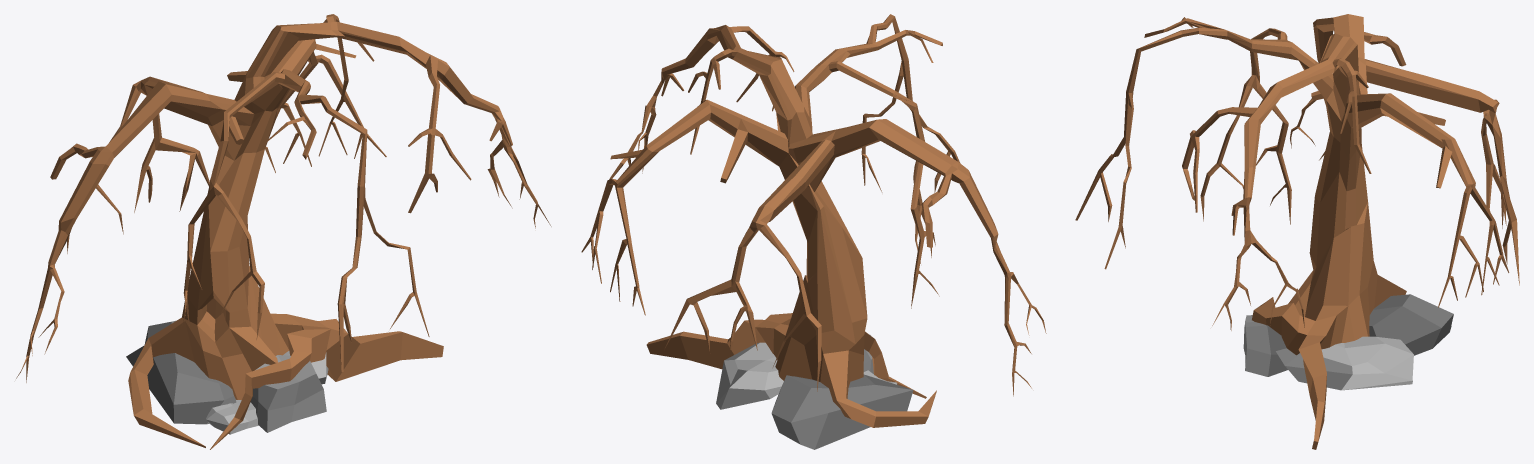
Rendered from huge_tree4.fbx.
The picture shows the model from 3 angles, left to right: view 1: azimuth 30°, elevation 25°; view 2: azimuth 150°, elevation 25°; view 3: azimuth 270°, elevation 25°; orthographic projection. The views are drawn at different scales.
Visible parts, largest first — view 1: Tree, Cube.001, Cube.002, Cube.003; view 2: Tree, Cube.001, Cube.004; view 3: Tree, Cube.004, Cube.001, Cube.002.
Part boxes in pixels (left/top/right/bottom): Tree: left=16, top=14, right=551, bottom=449; Cube.001: left=126, top=320, right=236, bottom=424; Cube.002: left=250, top=355, right=326, bottom=432; Cube.003: left=206, top=400, right=258, bottom=434; Tree: left=581, top=14, right=1046, bottom=427; Cube.001: left=771, top=374, right=913, bottom=449; Cube.004: left=716, top=342, right=783, bottom=409; Tree: left=1075, top=14, right=1519, bottom=449; Cube.004: left=1276, top=336, right=1413, bottom=390; Cube.001: left=1369, top=294, right=1453, bottom=355; Cube.002: left=1243, top=315, right=1287, bottom=376.
Size of the model in its own units: 4145 by 3025 by 3459.
